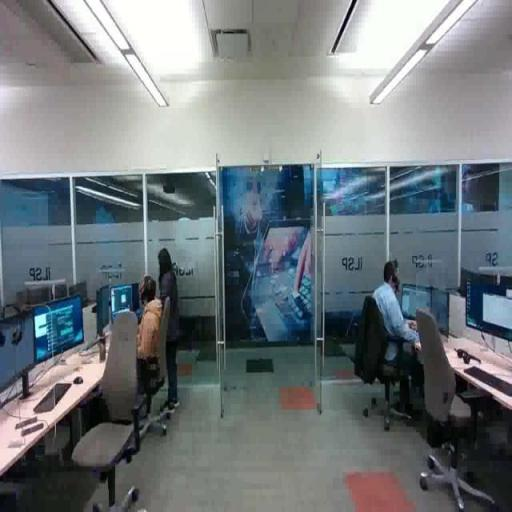person: (374, 263, 419, 415), (155, 250, 184, 417), (374, 263, 419, 366), (159, 249, 180, 413), (138, 277, 163, 394), (139, 277, 164, 360)
